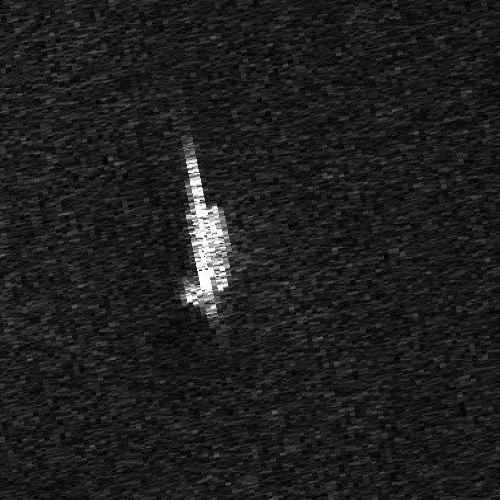ship: (179, 141, 232, 316)
